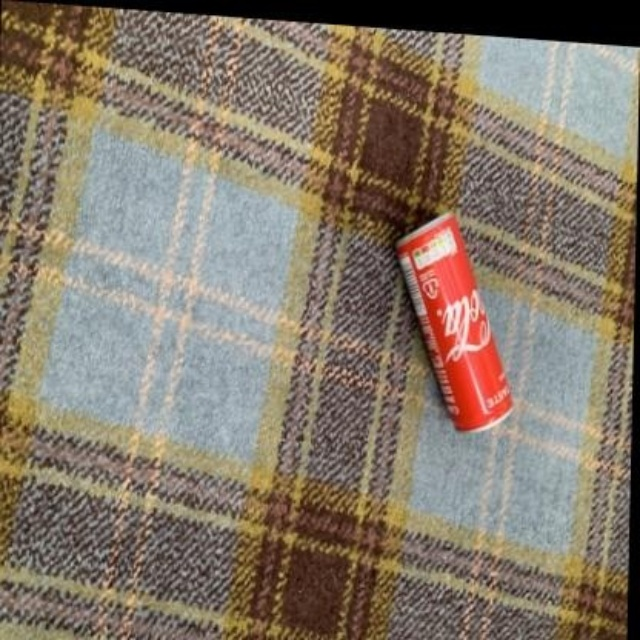trash: (397, 214, 511, 429)
